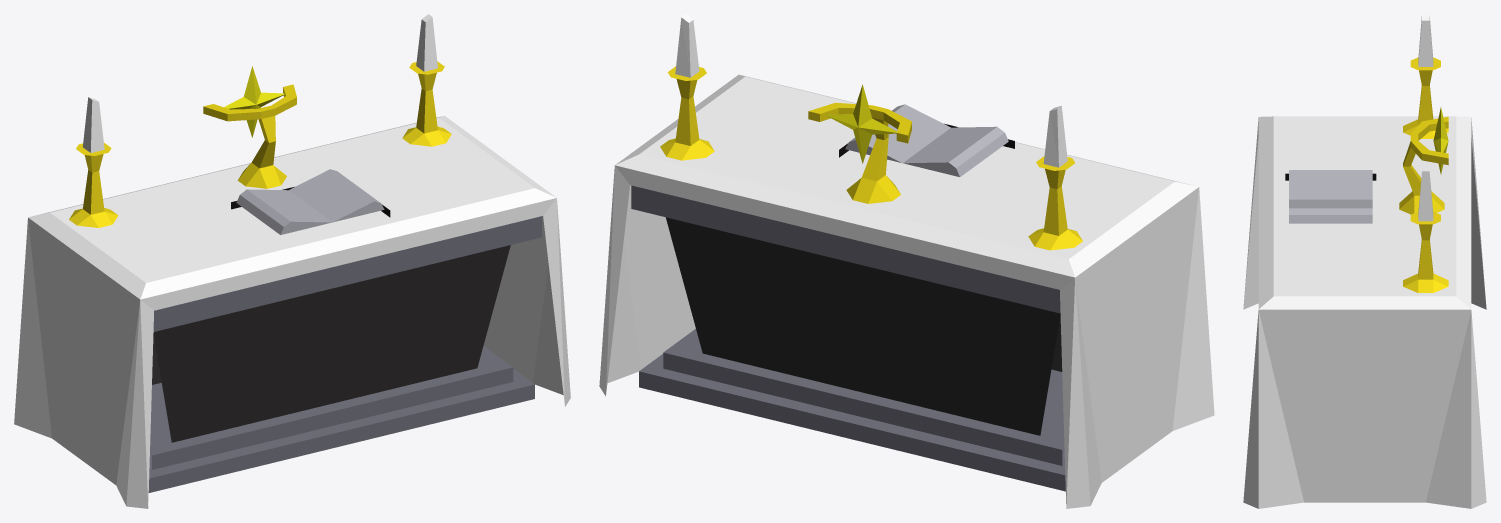
The model's file is obj_altar_15_0.obj.
3 views of the same model, side by side, from view 1: azimuth 30°, elevation 25°; view 2: azimuth 150°, elevation 25°; view 3: azimuth 270°, elevation 25° (orthographic). The views are drawn at different scales.
Bounding box in the file's own units: 2 × 1.42 × 1.
